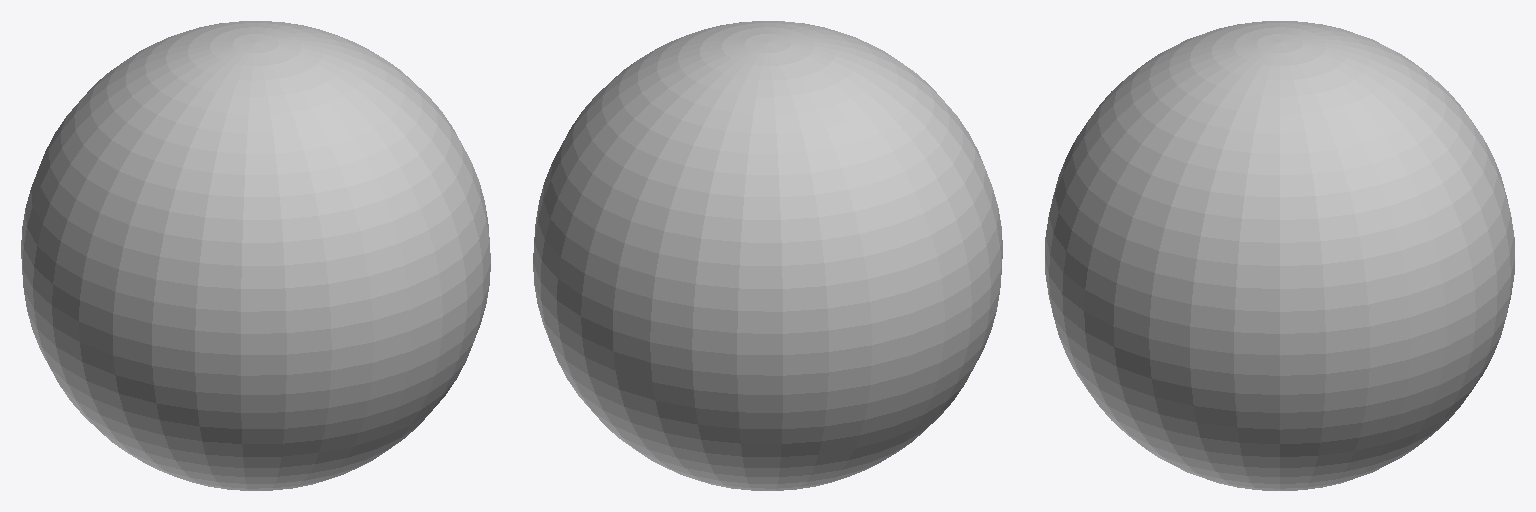
File: CannonBall.obj
3 renders of one model, left to right at view 1: azimuth 30°, elevation 25°; view 2: azimuth 150°, elevation 25°; view 3: azimuth 270°, elevation 25°, orthographic.
Parts seen in each view (by area): view 1: Sphere; view 2: Sphere; view 3: Sphere.
Boxes of the visible parts, x1,y1,x2,y2 form: Sphere: [21, 21, 490, 490]; Sphere: [533, 21, 1002, 490]; Sphere: [1045, 21, 1514, 490].
Size of the model in its own units: 1 by 1 by 1.